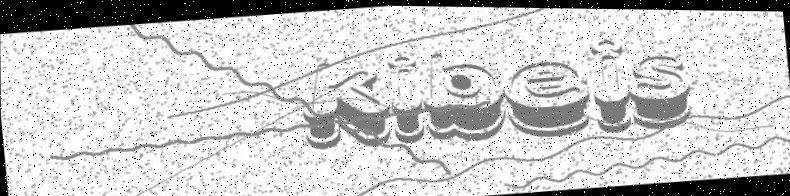b: (419, 35, 511, 149)
e: (497, 52, 601, 151)
i: (583, 26, 637, 139), (386, 41, 431, 149)
k: (298, 50, 395, 161)
s: (620, 44, 698, 134)
